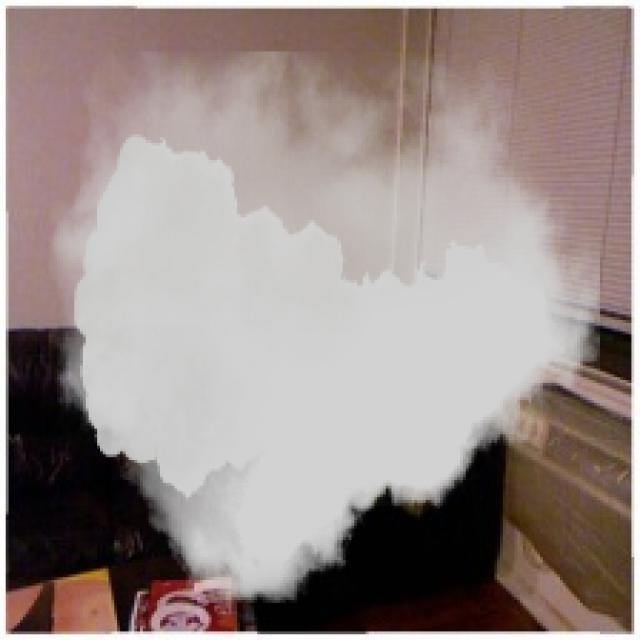smoke: (49, 51, 600, 603)
